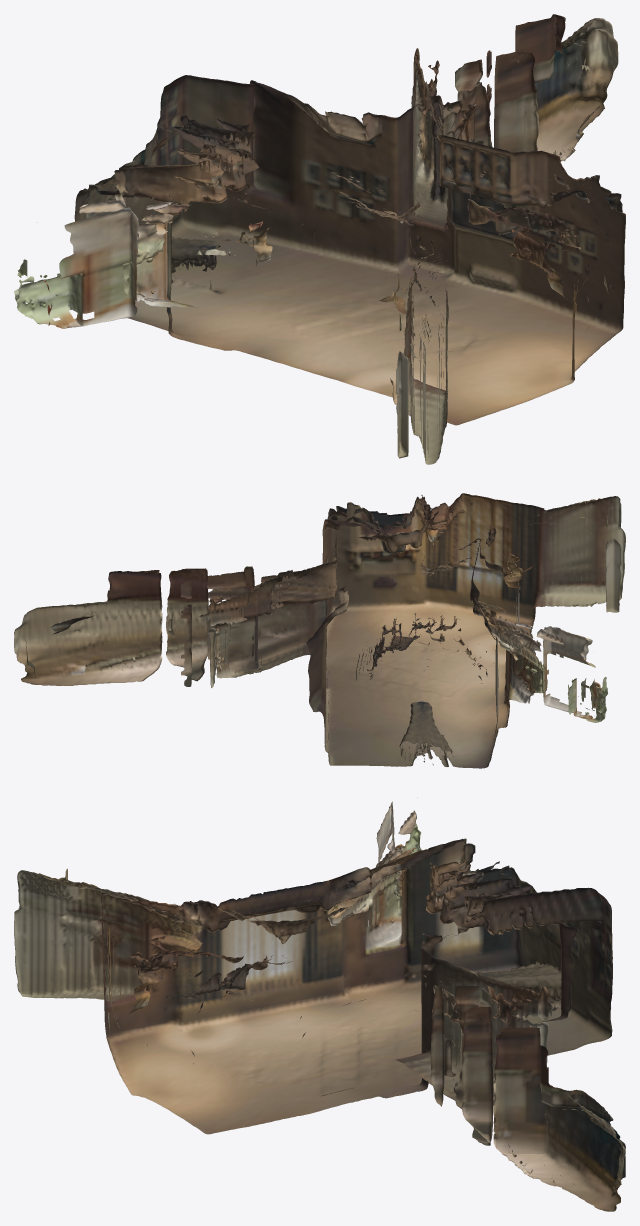
File: collider.glb
3 views of the same model, one above another, from view 1: azimuth 30°, elevation 25°; view 2: azimuth 150°, elevation 25°; view 3: azimuth 270°, elevation 25° (orthographic). The views are drawn at different scales.
Parts seen in each view (by area): view 1: world; view 2: world; view 3: world.
Boxes of the visible parts, x1,y1,x2,y2 form: world: [14, 14, 625, 464]; world: [14, 493, 625, 768]; world: [14, 801, 625, 1211].
Bounding box in the file's own units: 7.58 × 1.65 × 6.26.
